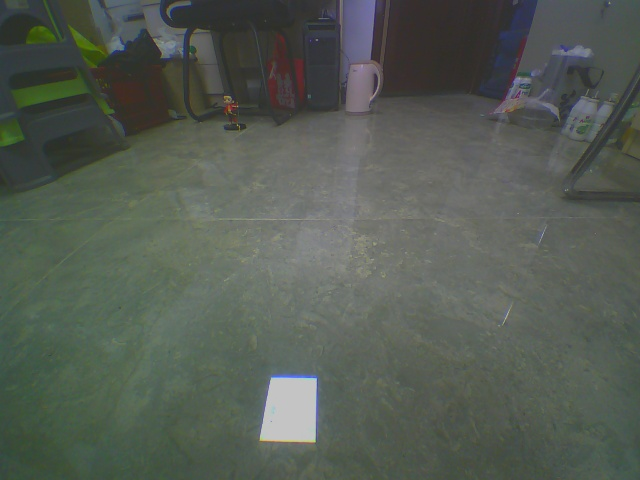Nezha: (219, 89, 249, 131)
